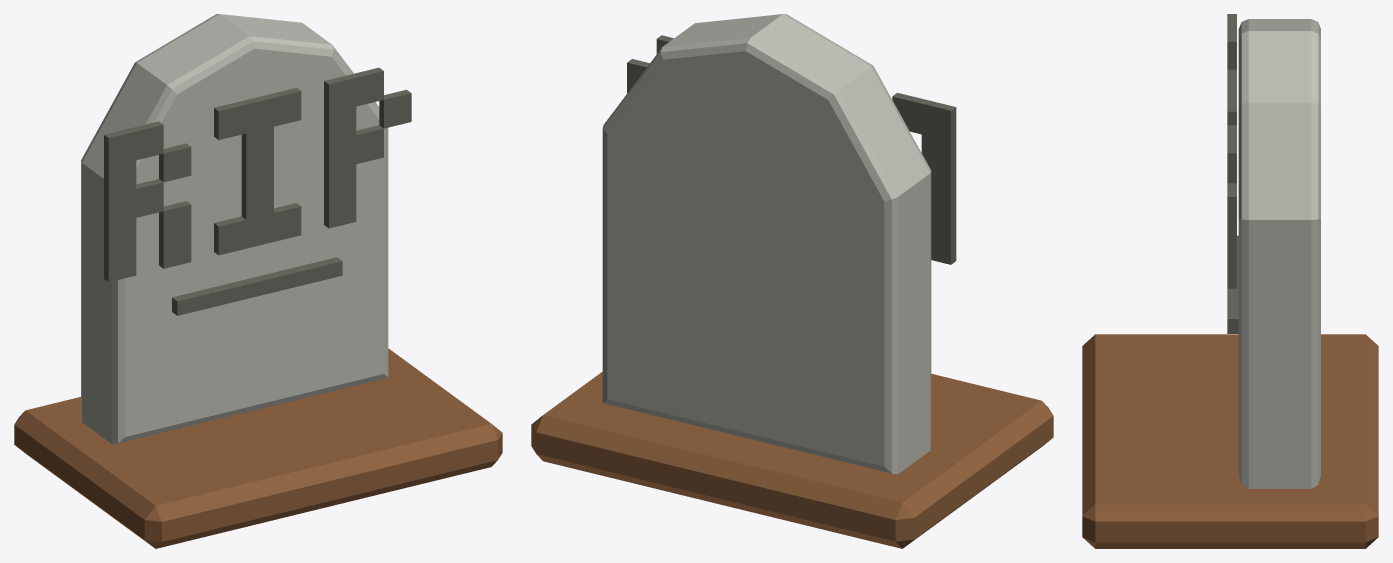
The model's file is RIPTombstone.fbx.
3 views of the same model, side by side, from view 1: azimuth 30°, elevation 25°; view 2: azimuth 150°, elevation 25°; view 3: azimuth 270°, elevation 25° (orthographic). The views are drawn at different scales.
Parts seen in each view (by area): view 1: RIPTombstone; view 2: RIPTombstone; view 3: RIPTombstone.
Boxes of the visible parts, x1,y1,x2,y2 form: RIPTombstone: (14,14,502,548); RIPTombstone: (531,14,1053,548); RIPTombstone: (1082,14,1378,548).
Size of the model in its own units: 2.6 by 2.9 by 1.8.
Materials: 1 (1 with a texture image).
